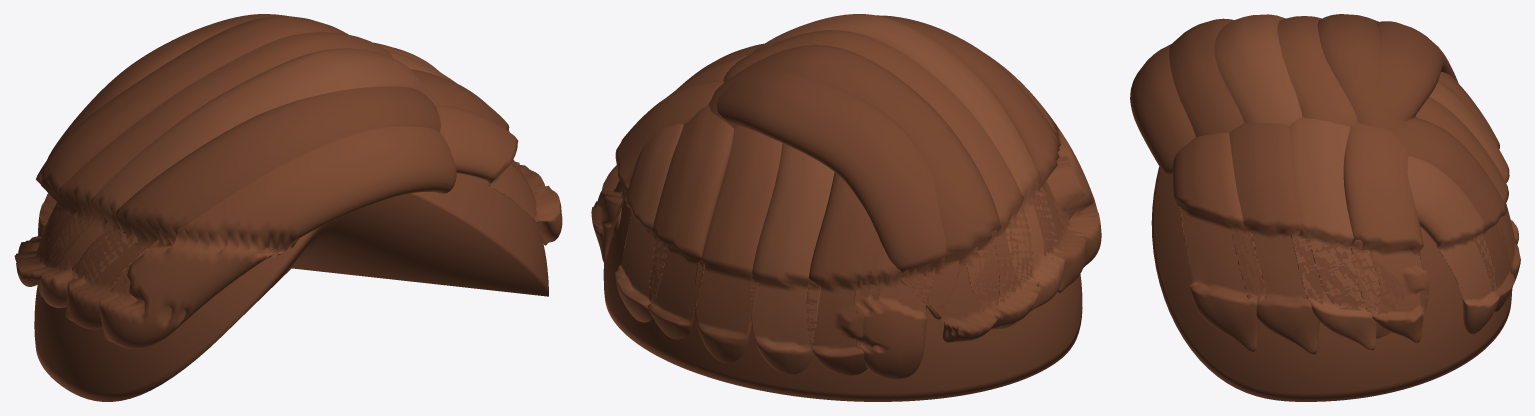
File: Masculine-sidepart-headband251-hair.glb
3 renders of one model, left to right at view 1: azimuth 30°, elevation 25°; view 2: azimuth 150°, elevation 25°; view 3: azimuth 270°, elevation 25°, orthographic. The views are drawn at different scales.
Visible parts, largest first — view 1: 226 hair / Hair / sculpted 0.002, 226 hair / Hair / sculpted 1.003, 226 hair / Hair / sculpted 1, 226 hair / Hair / sculpted 2.002; view 2: 226 hair / Hair / sculpted 1.003, 226 hair / Hair / sculpted 0.002, 226 hair / Hair / sculpted 2.002, 226 hair / Hair / sculpted 1; view 3: 226 hair / Hair / sculpted 1.003, 226 hair / Hair / sculpted 0.002, 226 hair / Hair / sculpted 2.002, 226 hair / Hair / sculpted 1.
Part boxes in pixels (x1,y1,x2,y2): 226 hair / Hair / sculpted 0.002: (16, 32, 562, 348); 226 hair / Hair / sculpted 1.003: (14, 14, 544, 329); 226 hair / Hair / sculpted 1: (34, 173, 548, 401); 226 hair / Hair / sculpted 2.002: (40, 48, 519, 307); 226 hair / Hair / sculpted 1.003: (612, 15, 1086, 375); 226 hair / Hair / sculpted 0.002: (591, 30, 1101, 379); 226 hair / Hair / sculpted 2.002: (602, 14, 1064, 375); 226 hair / Hair / sculpted 1: (603, 198, 1082, 401); 226 hair / Hair / sculpted 1.003: (1169, 14, 1515, 354); 226 hair / Hair / sculpted 0.002: (1130, 16, 1520, 352); 226 hair / Hair / sculpted 2.002: (1214, 14, 1518, 350); 226 hair / Hair / sculpted 1: (1151, 166, 1512, 401).
Bounding box in the file's own units: 0.9751 × 0.572 × 0.7583.
